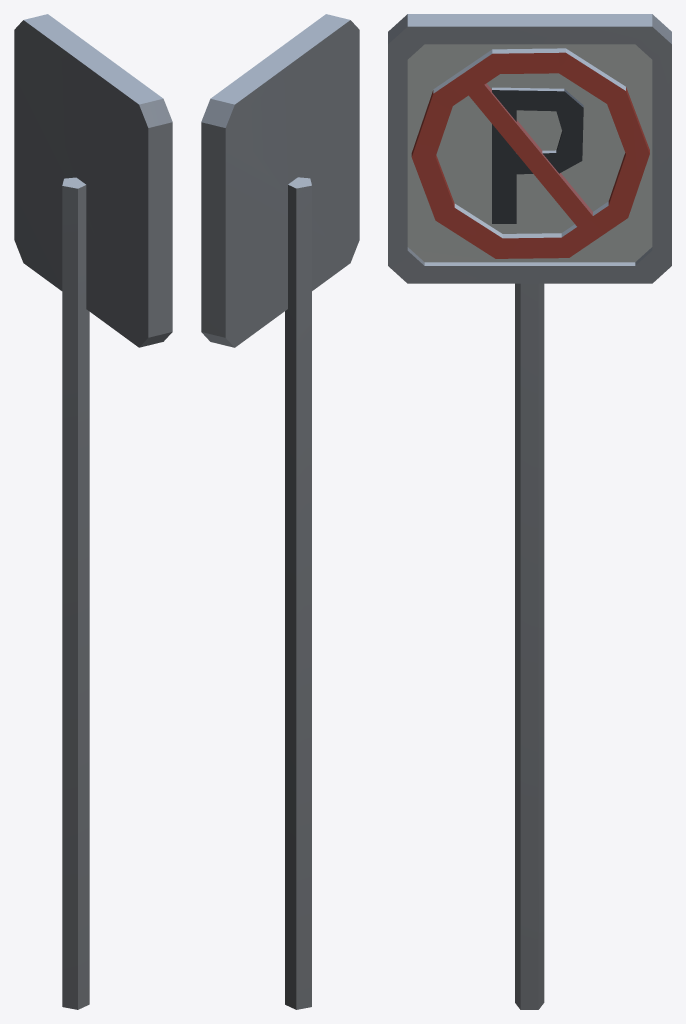
Rendered from sign_no_parking.glb.
3 views of the same model, side by side, from view 1: azimuth 30°, elevation 25°; view 2: azimuth 150°, elevation 25°; view 3: azimuth 270°, elevation 25° (orthographic). The views are drawn at different scales.
Parts seen in each view (by area): view 1: Prop; view 2: Prop; view 3: Prop.
Part boxes in pixels (bbox=[...]): Prop: bbox=[14, 14, 172, 1009]; Prop: bbox=[201, 14, 359, 1009]; Prop: bbox=[388, 14, 671, 1009].
Size of the model in its own units: 0.1297 by 2.6 by 0.6726.
